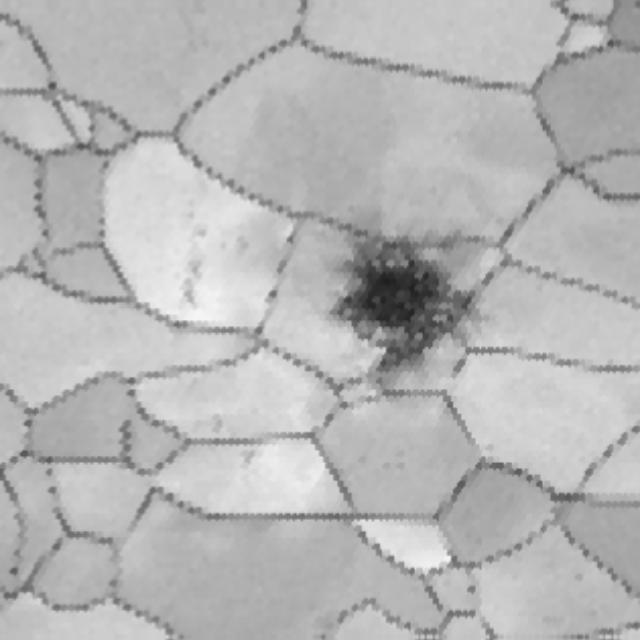good_void: (273, 189, 510, 430), (143, 175, 292, 311), (239, 445, 262, 467), (211, 408, 227, 433)
